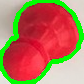Red Pawn: (3, 3, 80, 82)
